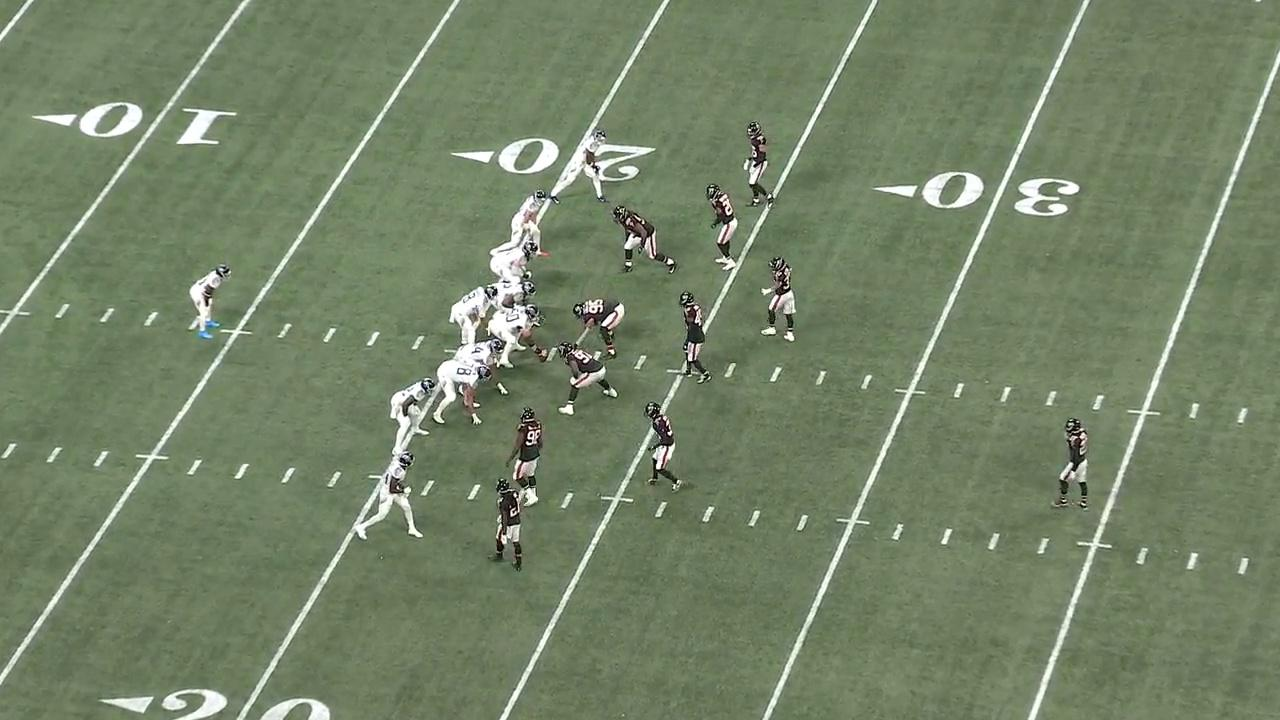player: (352, 450, 426, 544), (610, 204, 680, 279), (556, 339, 620, 420), (549, 126, 612, 208), (489, 185, 550, 261), (503, 405, 547, 510), (1047, 417, 1092, 515), (387, 375, 438, 460), (432, 358, 494, 427), (485, 476, 528, 573), (488, 302, 549, 370), (752, 254, 798, 343), (453, 337, 509, 410), (643, 398, 685, 494), (569, 295, 626, 364), (676, 288, 714, 386), (187, 262, 233, 341), (701, 180, 739, 273), (448, 283, 500, 346), (741, 118, 776, 211), (488, 239, 542, 284), (484, 280, 538, 311)
